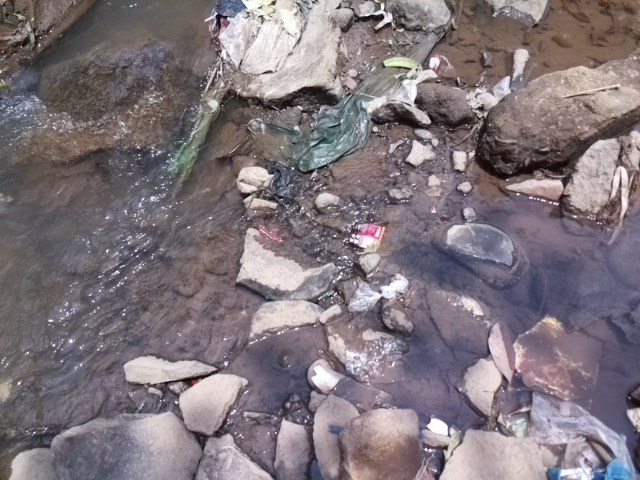Sampah_Plastik: (523, 389, 636, 480), (347, 222, 385, 252)
